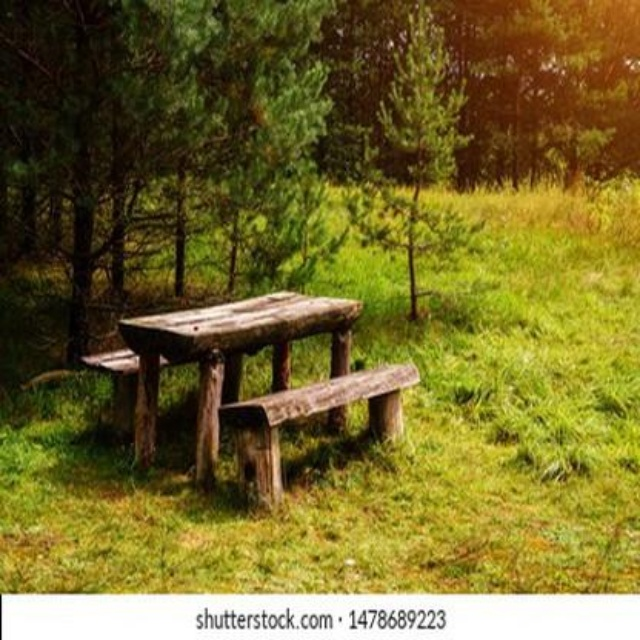obstacle: (63, 277, 420, 517)
